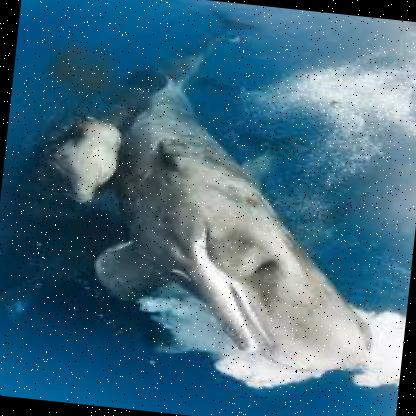sperm_whale: (92, 0, 376, 386)
